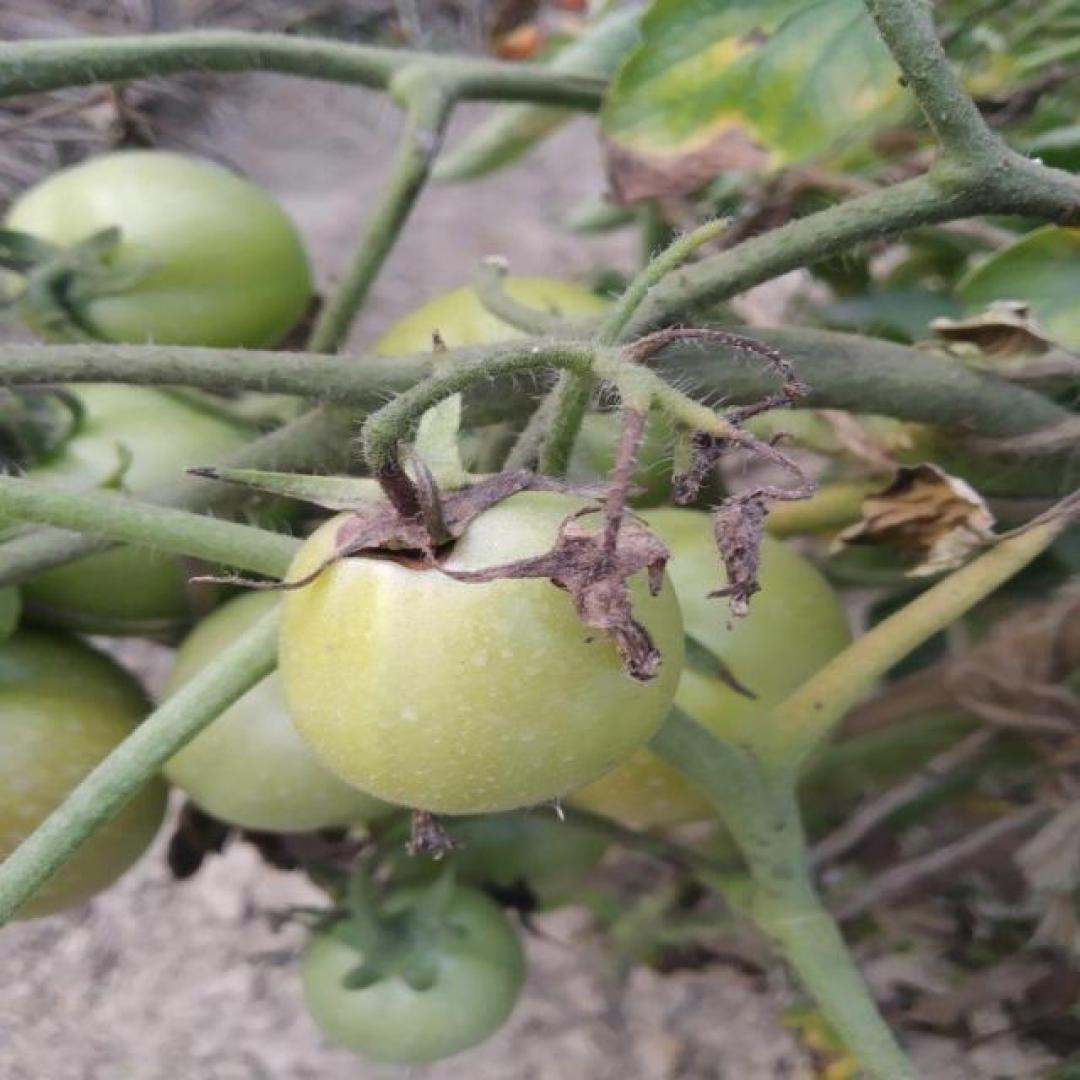mentah: (270, 469, 685, 817)
